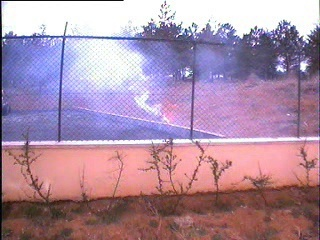smoke: (45, 37, 167, 121)
